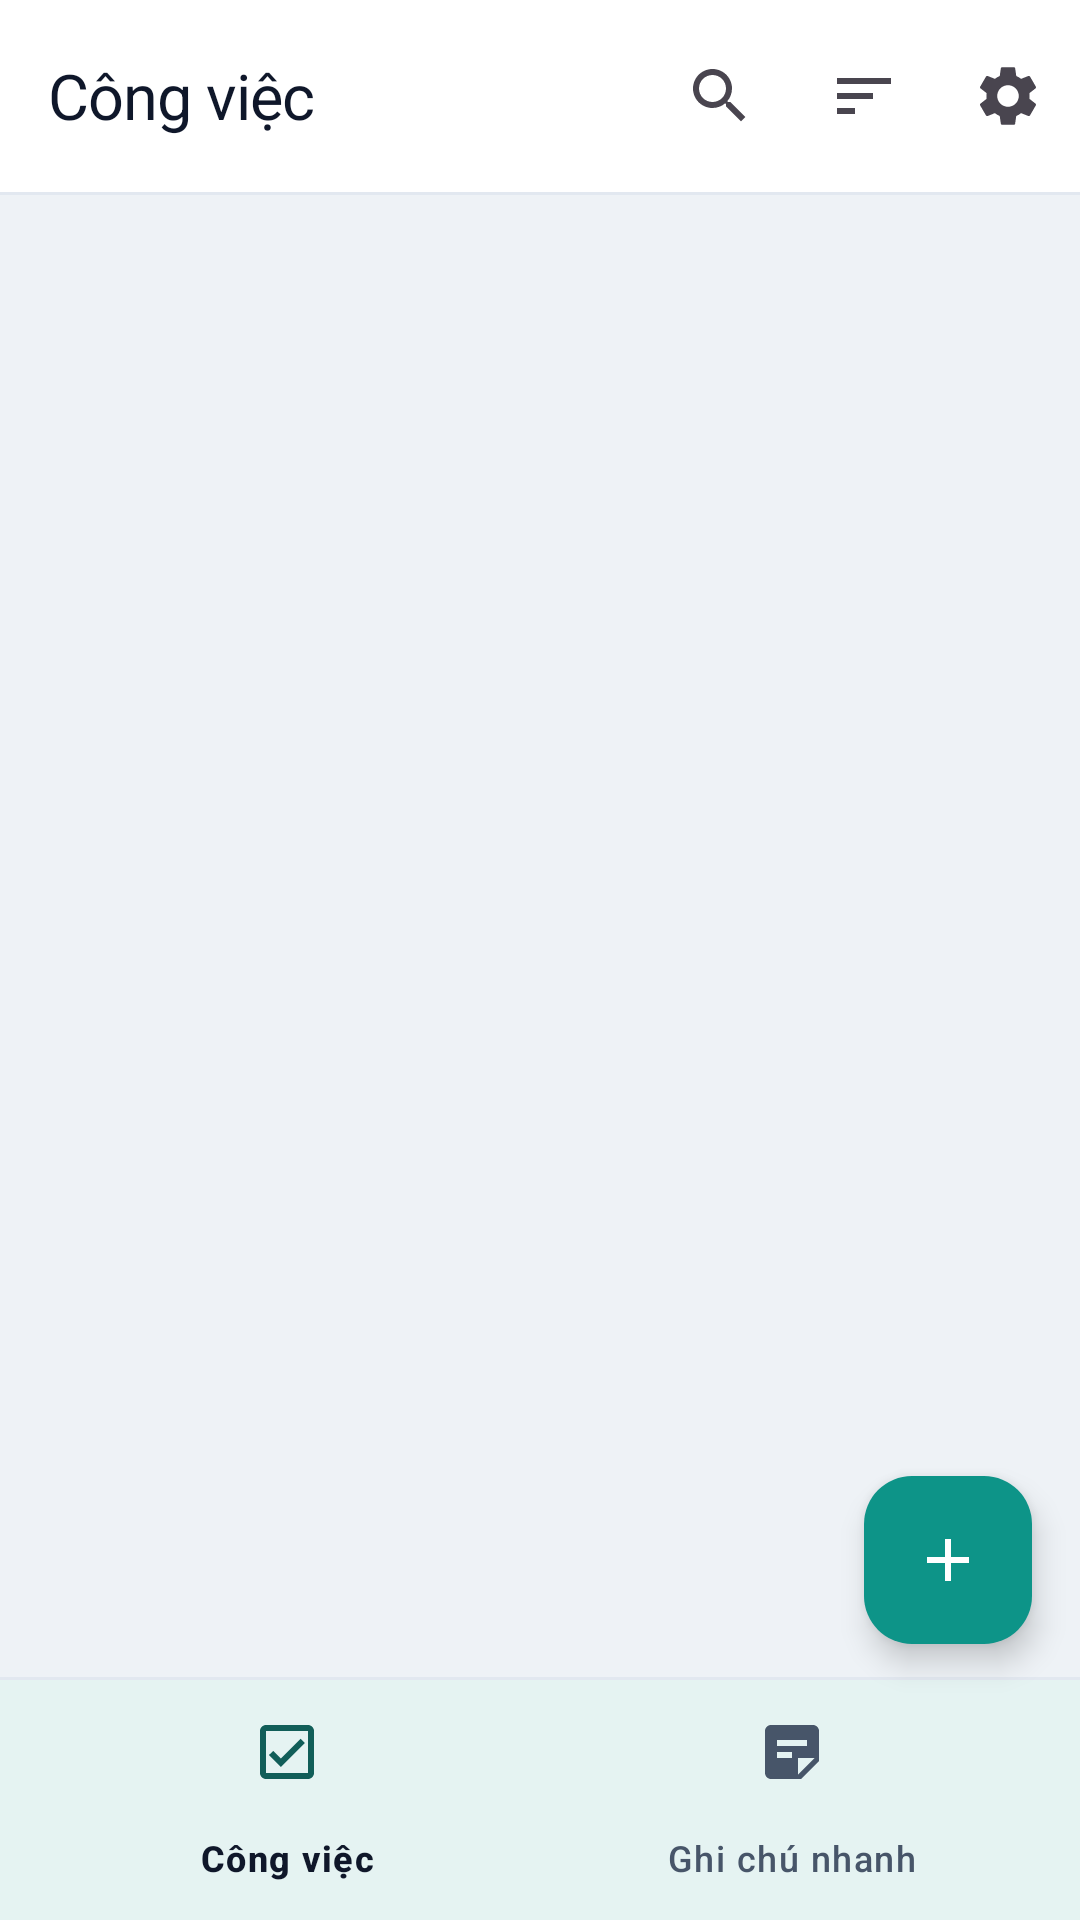

Screen size 1080px×1920px. Icon name, then its box in pixels as rect(x1, y1, x2, y2):
Thêm mục mới: rect(864, 1476, 1032, 1644)
